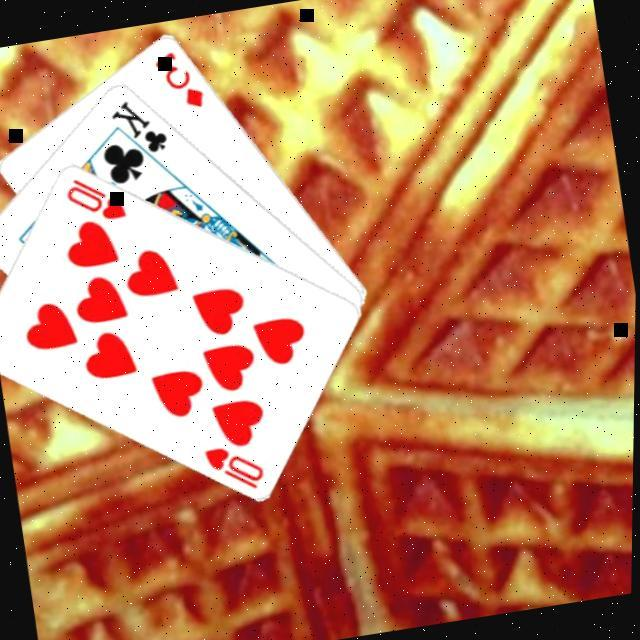10H: (198, 438, 271, 500), (59, 169, 131, 231)
3D: (147, 45, 208, 118)
KC: (103, 93, 174, 175)
